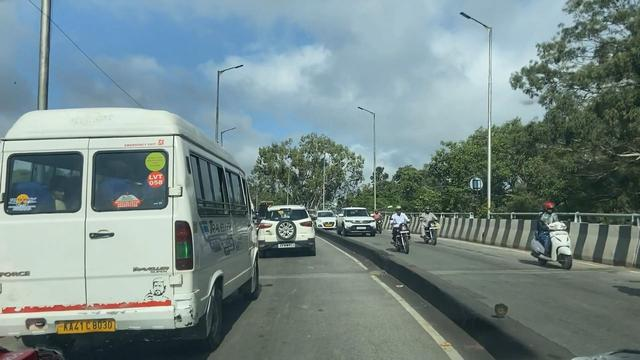HMV: (1, 104, 255, 346)
LMV: (260, 210, 317, 256)
SpeedBump: (259, 270, 371, 279)
